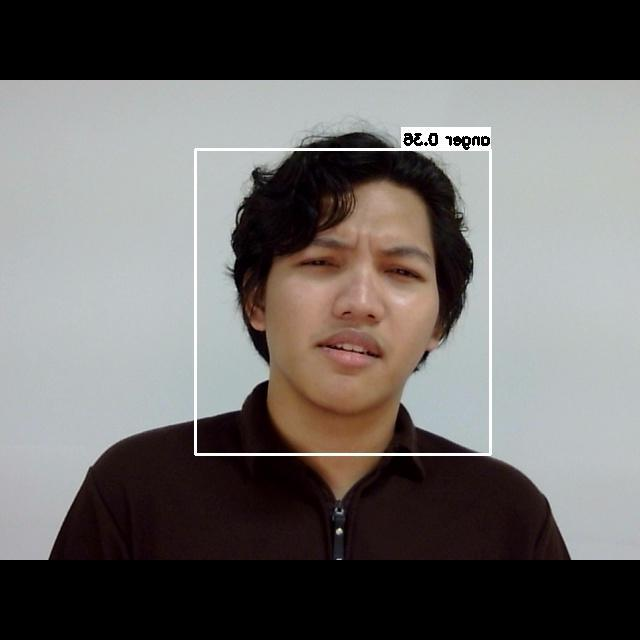Sad: (264, 214, 447, 388)
